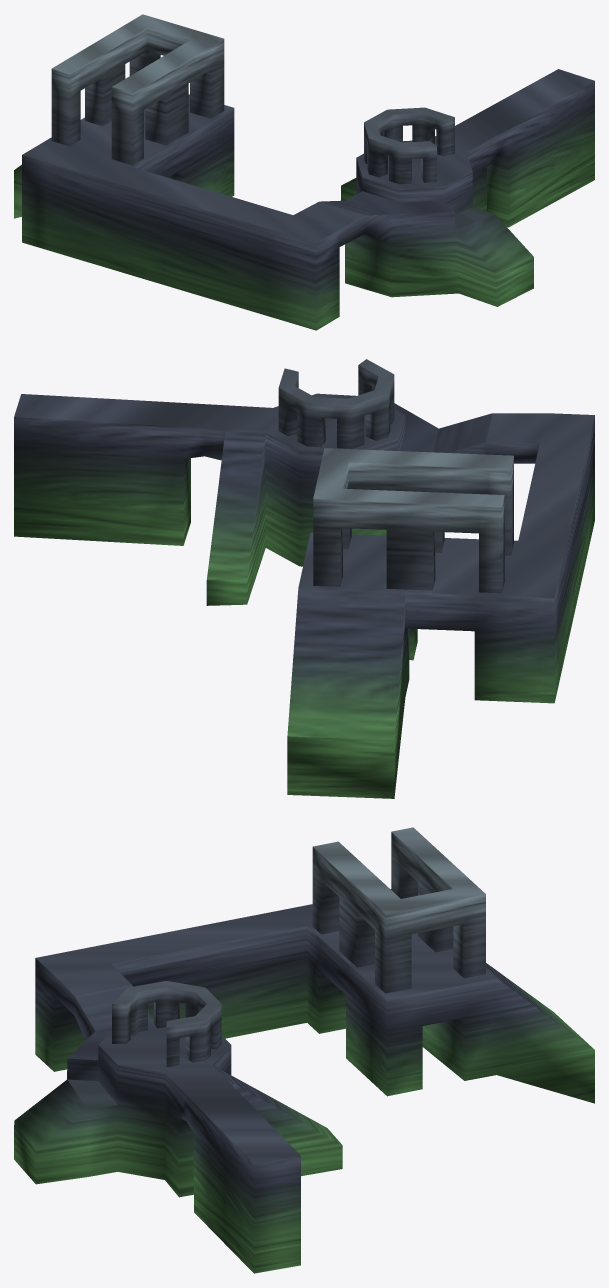
Rendered from Ciudad_piedra03.fbx.
3 renders of one model, top to bottom at view 1: azimuth 30°, elevation 25°; view 2: azimuth 150°, elevation 25°; view 3: azimuth 270°, elevation 25°, orthographic. The views are drawn at different scales.
Parts seen in each view (by area): view 1: Ciudad_piedra03; view 2: Ciudad_piedra03; view 3: Ciudad_piedra03.
Part boxes in pixels (x1,y1,x2,y2): Ciudad_piedra03: [14, 14, 594, 330]; Ciudad_piedra03: [14, 359, 594, 798]; Ciudad_piedra03: [14, 827, 594, 1273].
Size of the model in its own units: 57.84 by 22.09 by 51.82.
